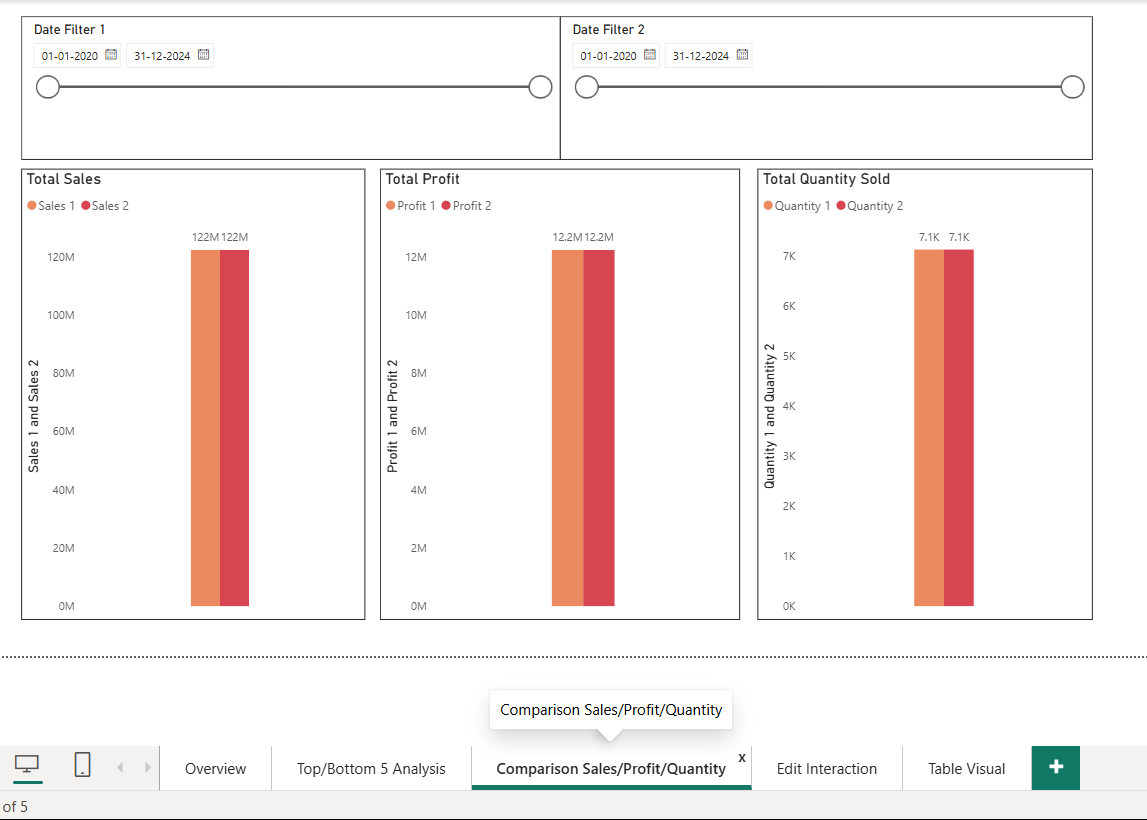

This screenshot's page, from the dashboard's own definition file:
{"tool":"powerbi","page":{"name":"Comparison Sales/Profit/Quantity","canvas":[1280,720],"ordinal":2},"visuals":[{"type":"slicer","fields":{"Values":["Date Table 1.Date"]},"box":[23.2,18.3,591.9,157.7],"z":0},{"type":"clusteredColumnChart","title":"Total Sales","fields":{"Y":["Sum(Fact Table.Net Sales )","Date Table 1.Sum of Net Sales"]},"box":[23.2,185.9,377.9,495.2],"z":1000},{"type":"clusteredColumnChart","title":"Total Profit","fields":{"Y":["Sum(Fact Table.Profit)","Measures Table.Total Profit"]},"box":[417,185.9,395,495.2],"z":2000},{"type":"clusteredColumnChart","title":"Total Quantity Sold","fields":{"Y":["Sum(Fact Table.Units Sold)","Measures Table.Total Quantity"]},"box":[831.5,185.9,368.1,495.2],"z":3000},{"type":"slicer","fields":{"Values":["Date Table 2.Date"]},"box":[615.1,18.3,584.5,157.7],"z":4000}]}

Visuals, with their boxes in screenshot pixels (x1, y1, x2, y2):
slicer - Date Table 1.Date: (15,11,558,155)
"Total Sales" clusteredColumnChart: (15,164,362,618)
"Total Profit" clusteredColumnChart: (376,164,738,618)
"Total Quantity Sold" clusteredColumnChart: (756,164,1093,618)
slicer - Date Table 2.Date: (558,11,1093,155)
